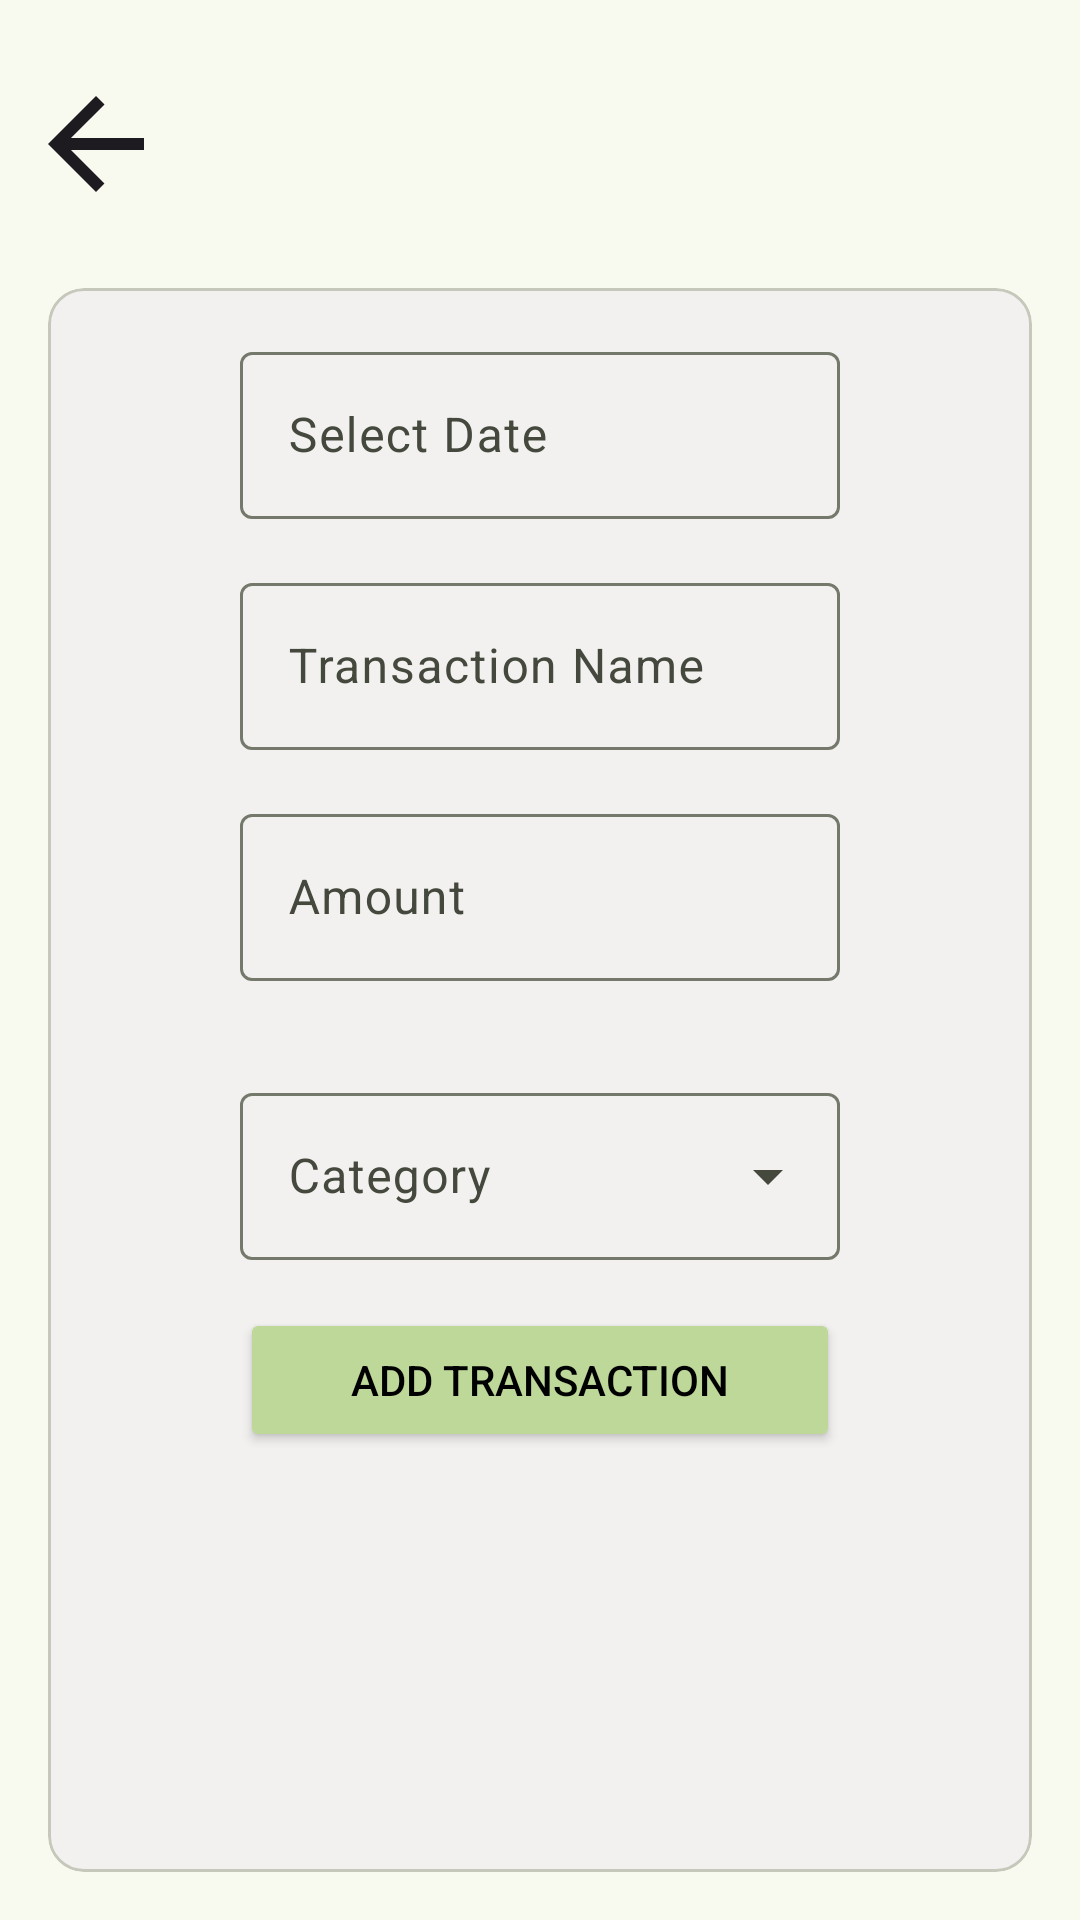

Named icons in this screenshot (1080×1920) and their bounding boxes, Rect(x1, y1, x2, y2):
arrow back: Rect(48, 96, 144, 192)
